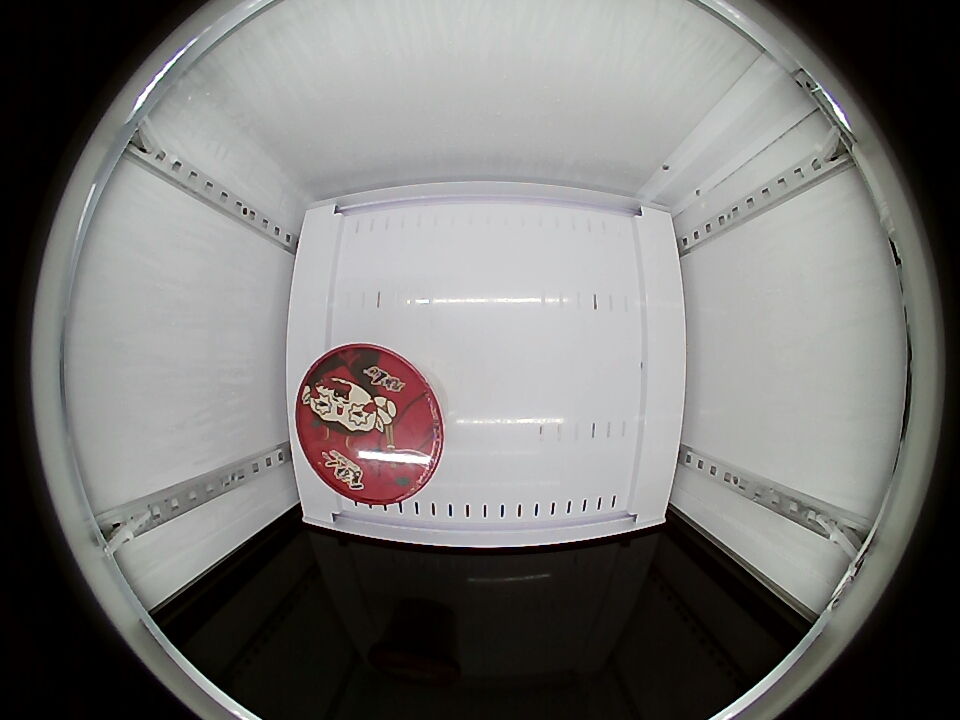suanlafen: (295, 344, 445, 504)
